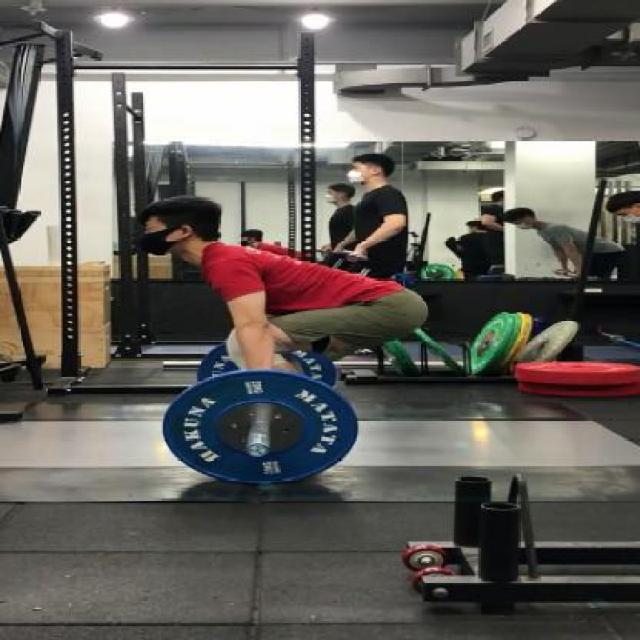Barbell: (240, 439, 278, 459)
